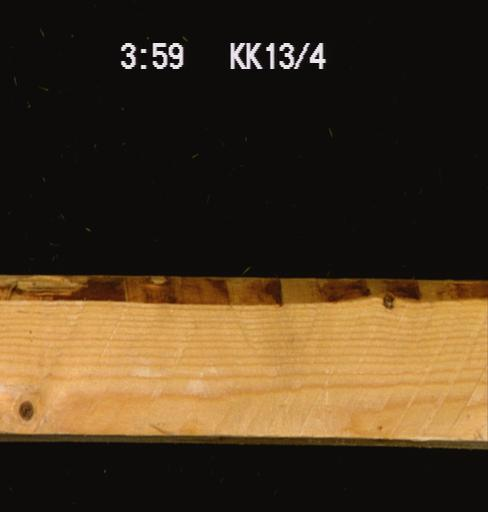sound_knot: (15, 398, 34, 420)
wave: (0, 273, 487, 304)
